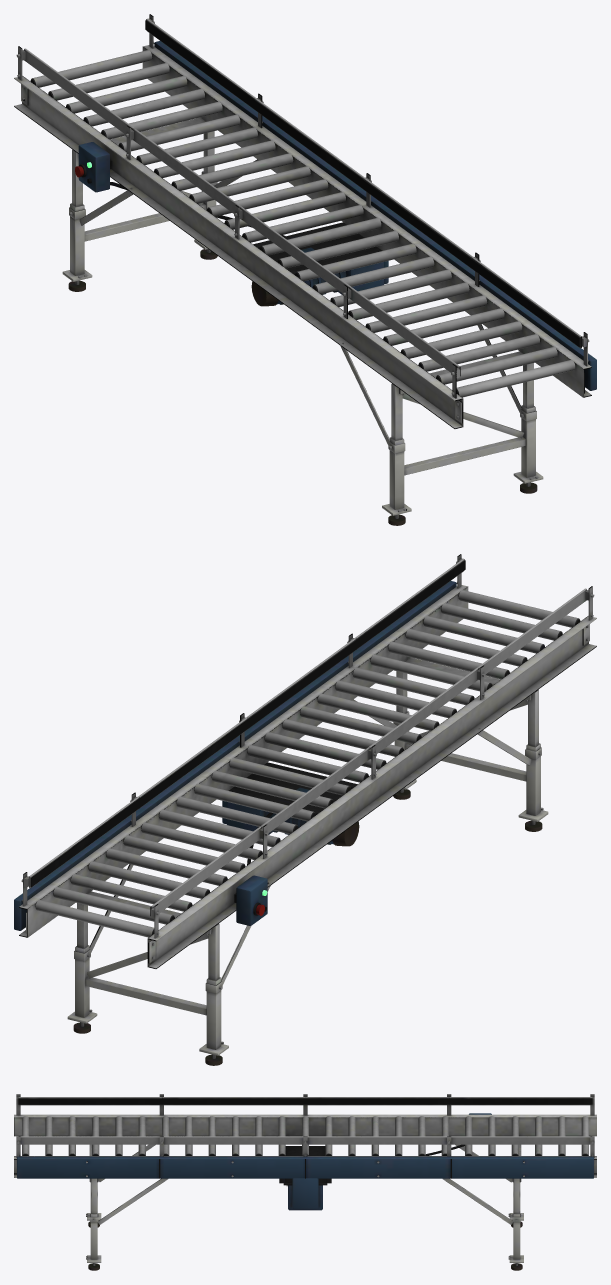
Rendered from conveyor-roller-straight-v1-lod0.glb.
3 views of the same model, one above another, from view 1: azimuth 30°, elevation 25°; view 2: azimuth 150°, elevation 25°; view 3: azimuth 270°, elevation 25° (orthographic). The views are drawn at different scales.
Parts seen in each view (by area): view 1: module_straight_mesh, straight_roller_25_mesh, straight_roller_24_mesh, straight_roller_23_mesh, straight_roller_15_mesh, straight_roller_01_mesh, straight_roller_04_mesh, straight_roller_09_mesh, straight_roller_11_mesh, straight_roller_14_mesh, straight_roller_17_mesh, straight_roller_19_mesh (+14 smaller); view 2: module_straight_mesh, straight_roller_01_mesh, straight_roller_02_mesh, straight_roller_03_mesh, straight_roller_11_mesh, straight_roller_06_mesh, straight_roller_07_mesh, straight_roller_09_mesh, straight_roller_12_mesh, straight_roller_15_mesh, straight_roller_17_mesh, straight_roller_22_mesh (+14 smaller); view 3: module_straight_mesh, straight_roller_02_mesh, straight_roller_05_mesh, straight_roller_06_mesh, straight_roller_08_mesh, straight_roller_11_mesh, straight_roller_15_mesh, straight_roller_18_mesh, straight_roller_20_mesh, straight_roller_21_mesh, straight_roller_24_mesh, straight_roller_01_mesh (+11 smaller).
Part boxes in pixels (x1=…): module_straight_mesh: x1=14, y1=14, x2=596, y2=525; straight_roller_25_mesh: x1=456, y1=359, x2=575, y2=397; straight_roller_24_mesh: x1=436, y1=347, x2=557, y2=384; straight_roller_23_mesh: x1=418, y1=334, x2=540, y2=371; straight_roller_15_mesh: x1=277, y1=230, x2=399, y2=268; straight_roller_01_mesh: x1=30, y1=50, x2=152, y2=87; straight_roller_04_mesh: x1=83, y1=88, x2=205, y2=126; straight_roller_09_mesh: x1=171, y1=153, x2=293, y2=190; straight_roller_11_mesh: x1=207, y1=179, x2=328, y2=216; straight_roller_14_mesh: x1=259, y1=217, x2=381, y2=255; straight_roller_17_mesh: x1=312, y1=256, x2=434, y2=294; straight_roller_19_mesh: x1=348, y1=282, x2=469, y2=319; module_straight_mesh: x1=14, y1=554, x2=596, y2=1065; straight_roller_01_mesh: x1=35, y1=899, x2=154, y2=937; straight_roller_02_mesh: x1=53, y1=887, x2=174, y2=924; straight_roller_03_mesh: x1=70, y1=874, x2=192, y2=911; straight_roller_11_mesh: x1=211, y1=770, x2=333, y2=808; straight_roller_06_mesh: x1=123, y1=835, x2=245, y2=872; straight_roller_07_mesh: x1=141, y1=822, x2=262, y2=859; straight_roller_09_mesh: x1=176, y1=796, x2=298, y2=834; straight_roller_12_mesh: x1=229, y1=757, x2=351, y2=795; straight_roller_15_mesh: x1=282, y1=719, x2=403, y2=756; straight_roller_17_mesh: x1=317, y1=693, x2=439, y2=730; straight_roller_22_mesh: x1=405, y1=628, x2=527, y2=666; module_straight_mesh: x1=14, y1=1094, x2=596, y2=1270; straight_roller_02_mesh: x1=558, y1=1116, x2=565, y2=1155; straight_roller_05_mesh: x1=488, y1=1116, x2=495, y2=1155; straight_roller_06_mesh: x1=465, y1=1116, x2=472, y2=1155; straight_roller_08_mesh: x1=418, y1=1116, x2=425, y2=1155; straight_roller_11_mesh: x1=348, y1=1116, x2=355, y2=1155; straight_roller_15_mesh: x1=255, y1=1116, x2=262, y2=1155; straight_roller_18_mesh: x1=185, y1=1116, x2=192, y2=1155; straight_roller_20_mesh: x1=138, y1=1116, x2=145, y2=1155; straight_roller_21_mesh: x1=115, y1=1116, x2=122, y2=1155; straight_roller_24_mesh: x1=45, y1=1116, x2=52, y2=1155; straight_roller_01_mesh: x1=581, y1=1116, x2=588, y2=1155.
Size of the model in its own units: 0.876 by 0.9951 by 4.
2 materials, 1 textured.
